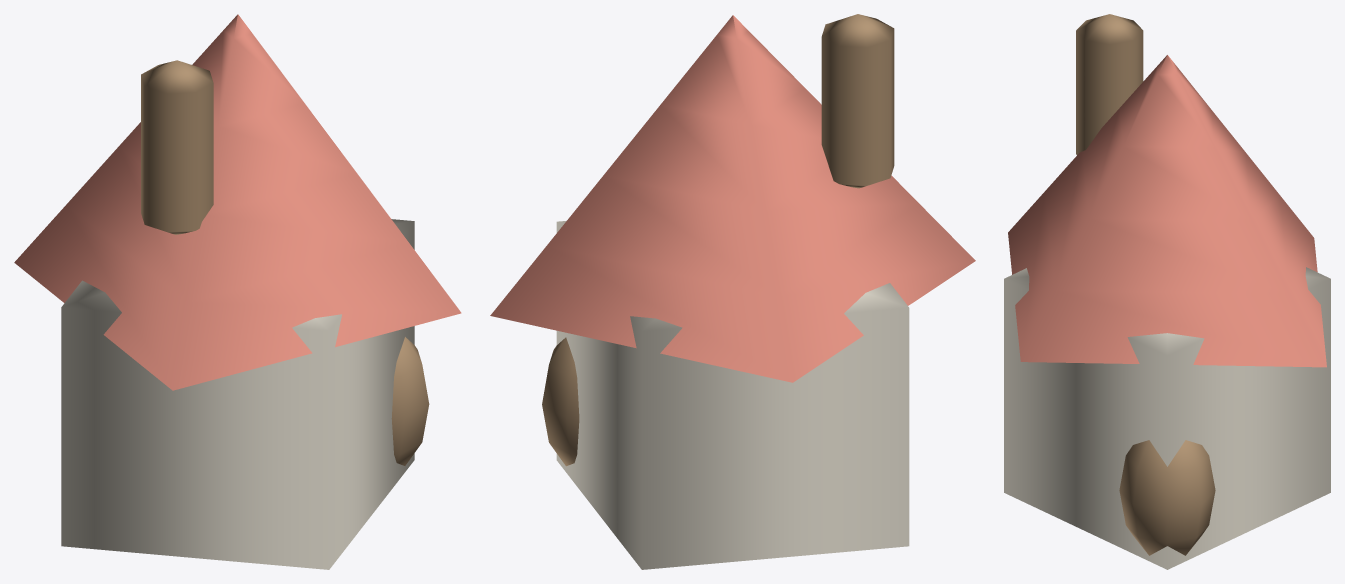
Rendered from house.glb.
The picture shows the model from 3 angles, left to right: view 1: azimuth 30°, elevation 25°; view 2: azimuth 150°, elevation 25°; view 3: azimuth 270°, elevation 25°; orthographic projection. The views are drawn at different scales.
Visible parts, largest first — view 1: Roof, Walls, Chimney, Door; view 2: Roof, Walls, Chimney, Door; view 3: Roof, Walls, Door, Chimney.
Boxes of the visible parts, x1,y1,x2,y2 form: Roof: (14,14,461,390); Walls: (61,219,414,569); Chimney: (141,60,213,234); Door: (391,337,429,465); Roof: (490,15,975,382); Walls: (556,221,909,569); Chimney: (821,14,894,188); Door: (542,337,579,466); Roof: (1008,55,1326,367); Walls: (1004,267,1330,569); Door: (1119,440,1215,555); Chimney: (1076,14,1143,154).
Bounding box in the file's own units: 0.78 × 1.04 × 0.68.
